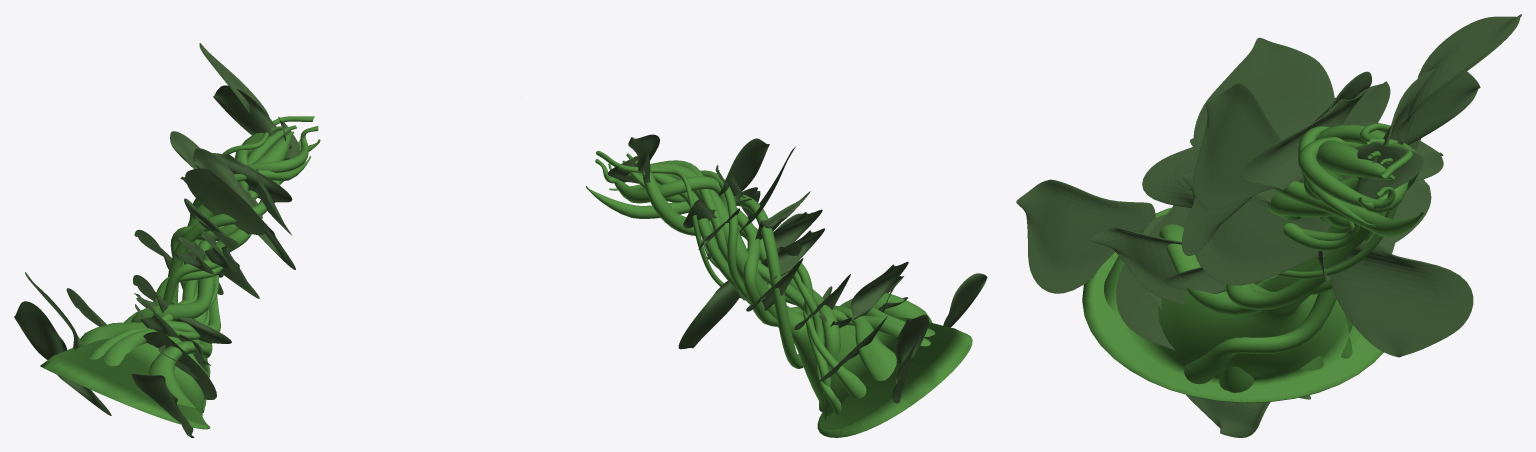
File: BeansalkBridge#07.fbx
3 renders of one model, left to right at view 1: azimuth 30°, elevation 25°; view 2: azimuth 150°, elevation 25°; view 3: azimuth 270°, elevation 25°, orthographic. The views are drawn at different scales.
Visible parts, largest first — view 1: Stalk12.034, Stalk12.033|Plane.005|Dupli|2, Stalk12.038, Stalk12.033, Stalk12.043, Stalk12.034|Plane.005|Dupli|4, Stalk12.039, Stalk12.034|Plane.005|Dupli|5, Stalk12.037, Stalk12.034|Plane.005|Dupli|7, Stalk12.035, Stalk12.035|Plane.005|Dupli| (+20 smaller); view 2: Stalk12.034, Stalk12.035, Stalk12.043, Stalk12.038, Stalk12.033, Stalk12.042, Stalk12.036, Stalk12.037, Stalk12.039, Stalk12.043|Plane.005|Dupli|5, Stalk12.043|Plane.005|Dupli|7, Stalk12.035|Plane.005|Dupli|6 (+9 smaller); view 3: Stalk12.034, Stalk12.043|Plane.005|Dupli|5, Stalk12.034|Plane.005|Dupli|7, Stalk12.033|Plane.005|Dupli|2, Stalk12.035|Plane.005|Dupli|6, Stalk12.043|Plane.005|Dupli|6, Stalk12.035, Stalk12.033|Plane.005|Dupli|3, Stalk12.034|Plane.005|Dupli|6, Stalk12.034|Plane.005|Dupli|5, Stalk12.038, Stalk12.035|Plane.005|Dupli| (+17 smaller).
Boxes of the visible parts, x1=… form: Stalk12.034: x1=40, y1=131, x2=294, y2=429; Stalk12.033|Plane.005|Dupli|2: x1=185, y1=168, x2=265, y2=235; Stalk12.038: x1=148, y1=126, x2=289, y2=409; Stalk12.033: x1=131, y1=126, x2=283, y2=322; Stalk12.043: x1=72, y1=125, x2=296, y2=347; Stalk12.034|Plane.005|Dupli|4: x1=14, y1=301, x2=67, y2=359; Stalk12.039: x1=103, y1=156, x2=310, y2=366; Stalk12.034|Plane.005|Dupli|5: x1=213, y1=85, x2=291, y2=148; Stalk12.037: x1=89, y1=126, x2=318, y2=359; Stalk12.034|Plane.005|Dupli|7: x1=131, y1=374, x2=192, y2=430; Stalk12.035: x1=168, y1=139, x2=301, y2=412; Stalk12.035|Plane.005|Dupli|: x1=211, y1=152, x2=292, y2=203; Stalk12.034: x1=626, y1=162, x2=972, y2=437; Stalk12.035: x1=586, y1=186, x2=803, y2=368; Stalk12.043: x1=626, y1=153, x2=896, y2=380; Stalk12.038: x1=622, y1=160, x2=932, y2=326; Stalk12.033: x1=642, y1=170, x2=840, y2=412; Stalk12.042: x1=596, y1=150, x2=866, y2=398; Stalk12.036: x1=608, y1=163, x2=804, y2=311; Stalk12.037: x1=595, y1=159, x2=930, y2=346; Stalk12.039: x1=609, y1=170, x2=935, y2=336; Stalk12.043|Plane.005|Dupli|5: x1=678, y1=280, x2=739, y2=349; Stalk12.043|Plane.005|Dupli|7: x1=851, y1=261, x2=908, y2=319; Stalk12.035|Plane.005|Dupli|6: x1=725, y1=138, x2=769, y2=190; Stalk12.034: x1=1082, y1=140, x2=1396, y2=402; Stalk12.043|Plane.005|Dupli|5: x1=1327, y1=240, x2=1473, y2=357; Stalk12.034|Plane.005|Dupli|7: x1=1016, y1=179, x2=1155, y2=293; Stalk12.033|Plane.005|Dupli|2: x1=1193, y1=37, x2=1334, y2=202; Stalk12.035|Plane.005|Dupli|6: x1=1193, y1=83, x2=1281, y2=209; Stalk12.043|Plane.005|Dupli|6: x1=1182, y1=171, x2=1332, y2=285; Stalk12.035: x1=1184, y1=170, x2=1423, y2=384; Stalk12.033|Plane.005|Dupli|3: x1=1396, y1=14, x2=1521, y2=144; Stalk12.034|Plane.005|Dupli|6: x1=1088, y1=227, x2=1186, y2=304; Stalk12.034|Plane.005|Dupli|5: x1=1357, y1=69, x2=1480, y2=181; Stalk12.038: x1=1104, y1=158, x2=1392, y2=318; Stalk12.035|Plane.005|Dupli|: x1=1239, y1=90, x2=1367, y2=190.
Size of the model in its own units: 206 by 156 by 132.
